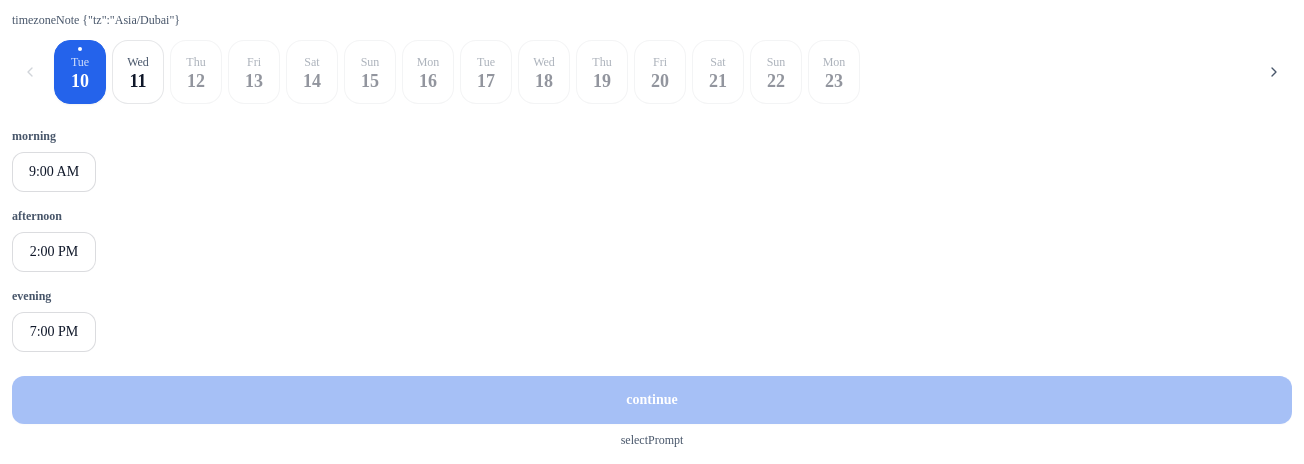
Test: AvailabilityPicker continue handoff › keeps Continue disabled until a slot is chosen
Expected: the button "continue" is disabled, [12,376,1292,424]
Click the button "9:00 AM". click: coordinates (54, 172)
box: [12,152,96,192]
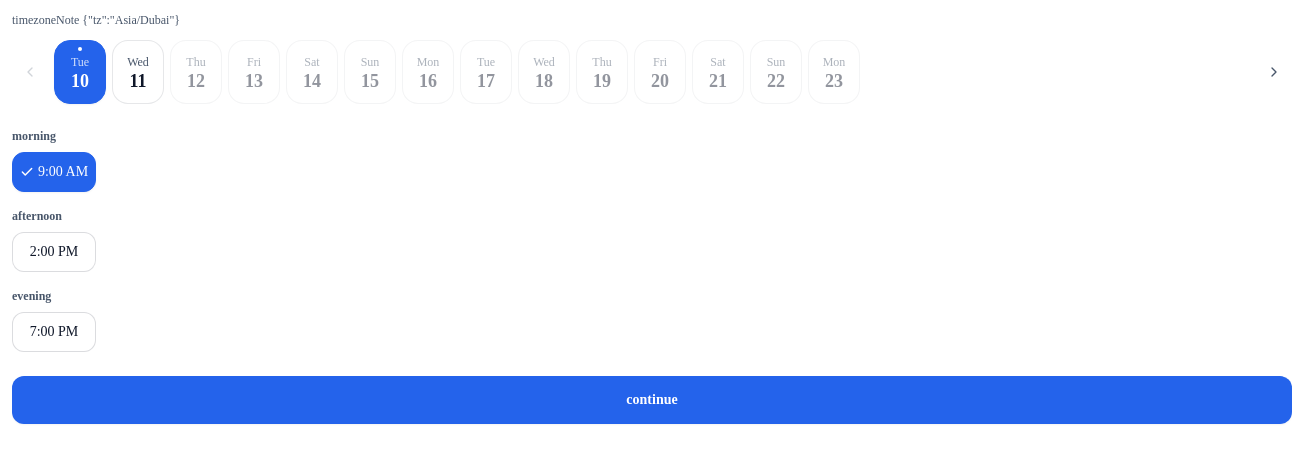
Result: the button "continue" is enabled at [12,376,1292,424]
